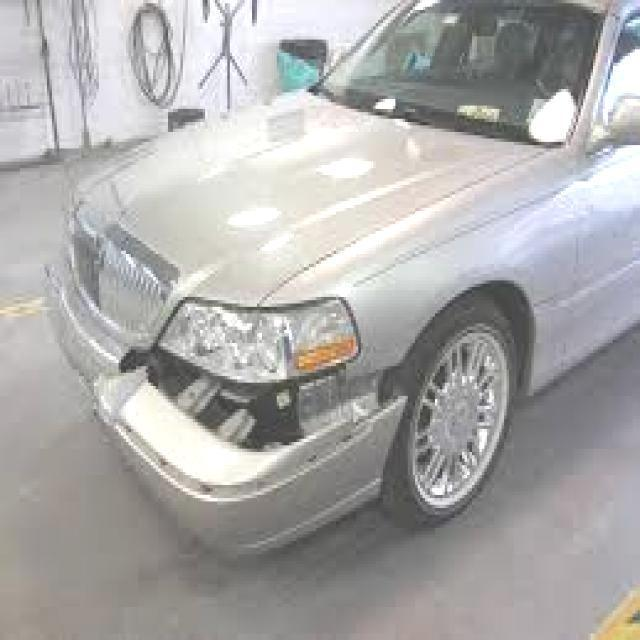minor: (108, 341, 408, 500)
